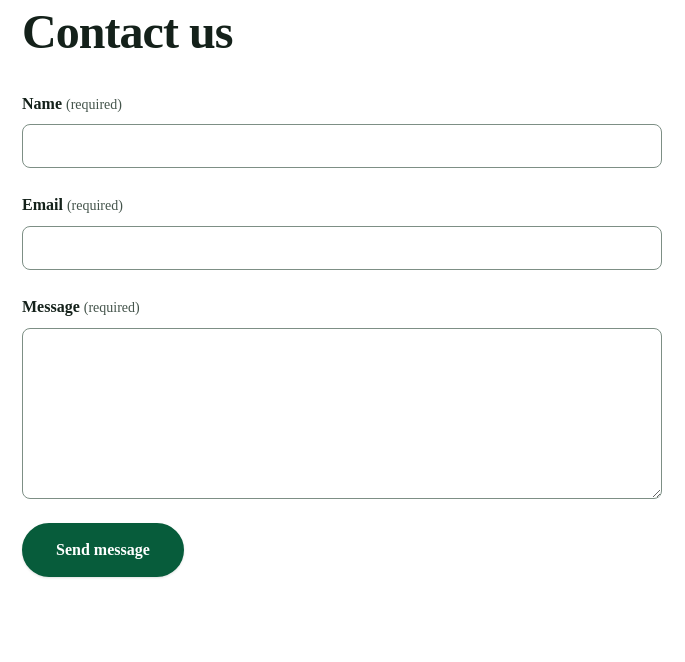
Scenario: ContactForm › announces success after a valid submission
Type "Ada Lovelace" into the field labelled "Name (required)" at (342, 146), box [22,124,662,168]
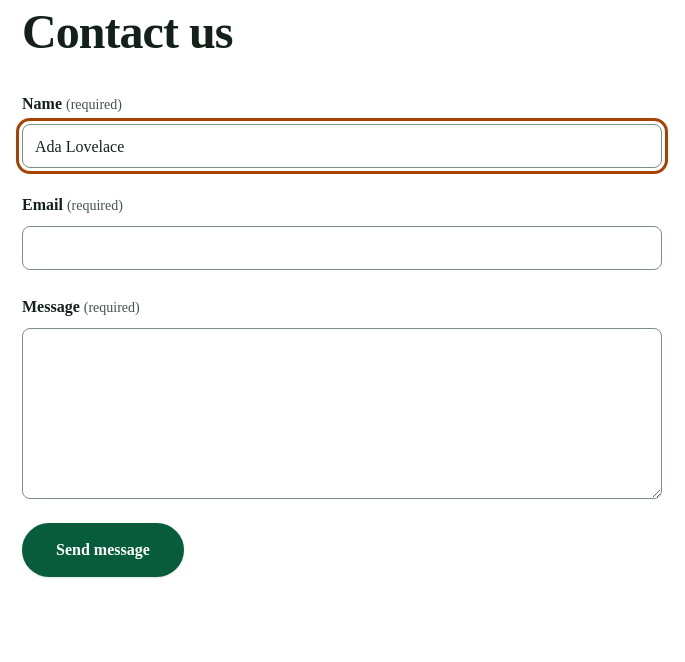
Type "ada@example.com" into the field labelled "Email (required)" at (342, 248), box [22,226,662,270]
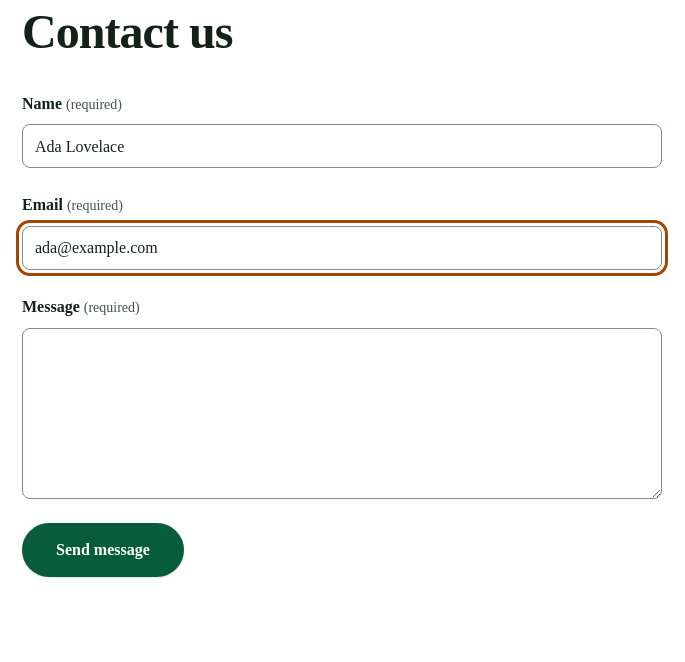
Type "Can I invite my whole team?" into the text box labelled "Message (required)" at (342, 413), box [22,328,662,499]
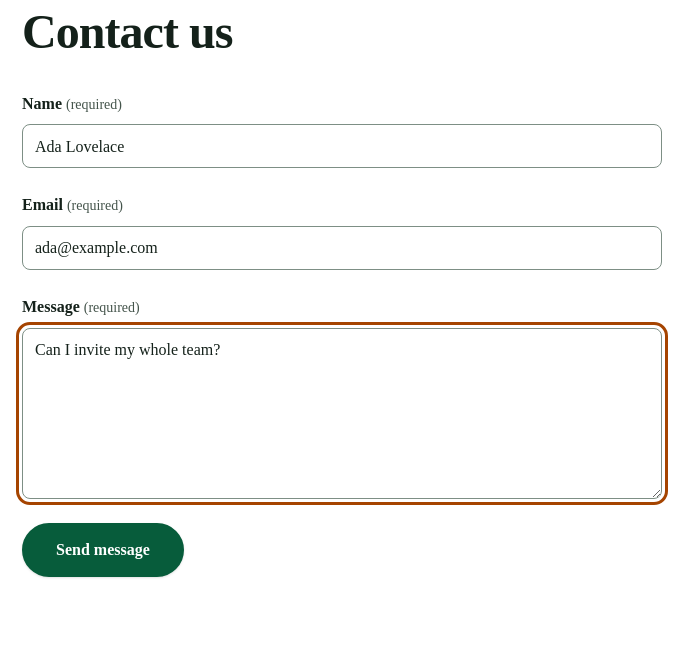
Click the button "Send message" at (103, 550), box [22,523,184,577]
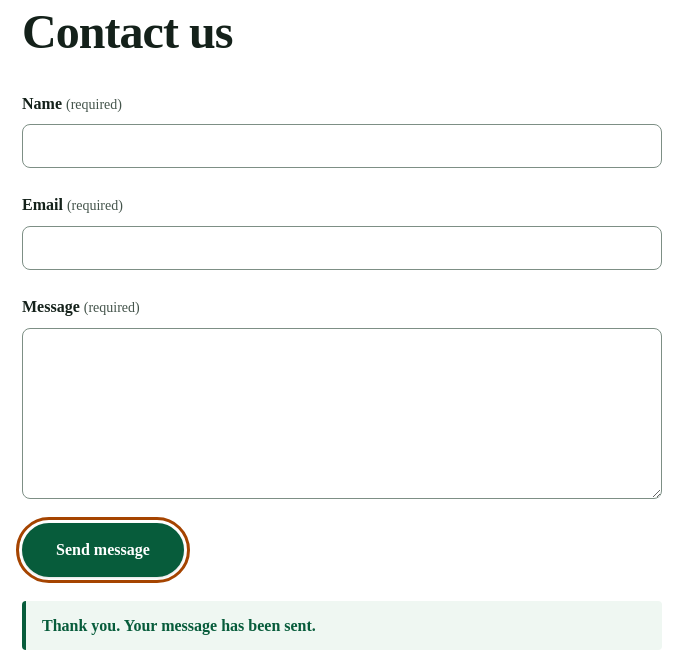
Result: the message reads "Thank you. Your message has been sent." at [42,617,316,634]
